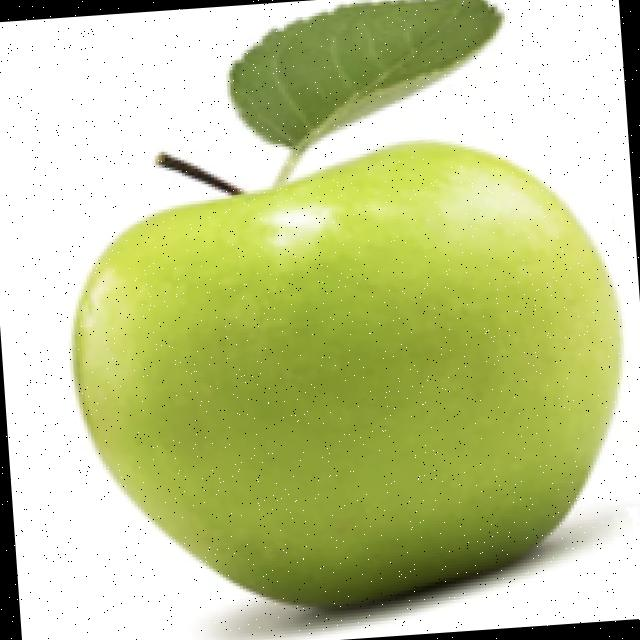apple: (65, 0, 635, 640)
